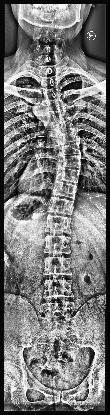Vertebrae: (42, 303, 73, 322), (44, 216, 74, 234), (42, 258, 72, 276), (44, 280, 74, 298), (44, 236, 72, 254), (49, 199, 75, 213), (52, 183, 75, 197), (56, 169, 80, 182), (59, 157, 82, 170), (59, 142, 81, 155), (46, 100, 66, 112), (54, 121, 74, 133), (58, 132, 78, 144), (37, 56, 57, 66), (38, 68, 58, 78), (39, 78, 59, 88), (42, 90, 62, 100), (52, 112, 70, 122)
